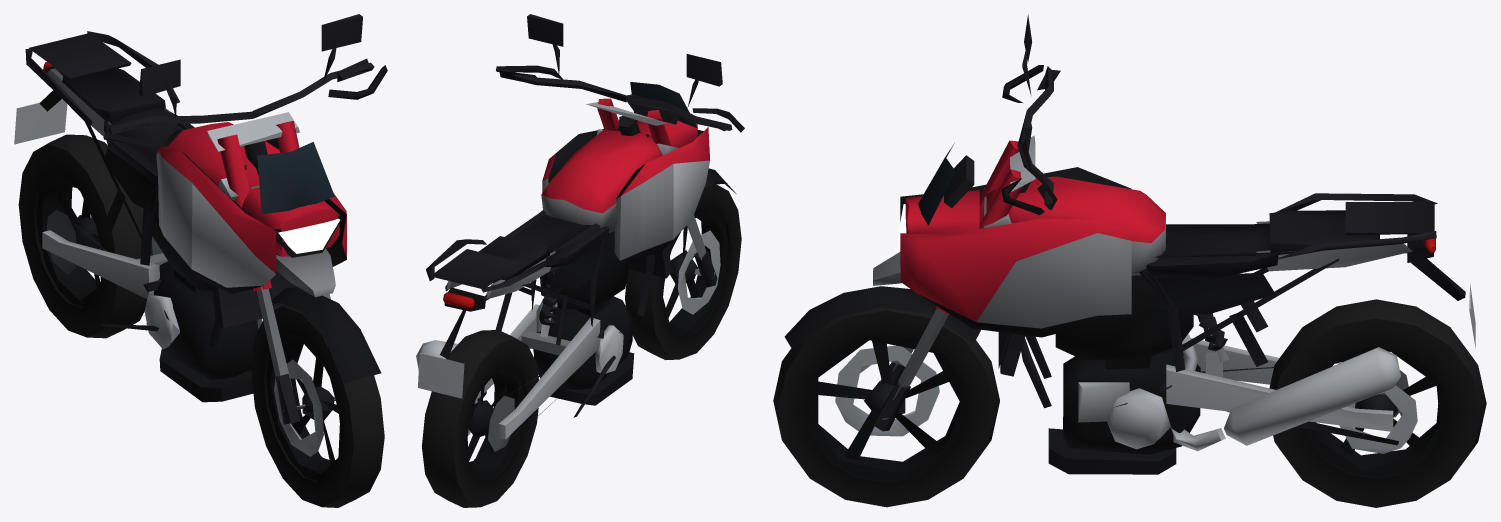
File: bike05_g310gs.glb
3 renders of one model, left to right at view 1: azimuth 30°, elevation 25°; view 2: azimuth 150°, elevation 25°; view 3: azimuth 270°, elevation 25°, orthographic. The views are drawn at different scales.
Parts seen in each view (by area): view 1: body, wheel_rear, wheel_front; view 2: body, wheel_rear, wheel_front; view 3: body, wheel_front, wheel_rear.
Part boxes in pixels (<box>): body: <box>14,14,387,424</box>; wheel_rear: <box>18,134,152,338</box>; wheel_front: <box>251,304,384,507</box>; body: <box>416,14,744,448</box>; wheel_rear: <box>421,330,538,507</box>; wheel_front: <box>625,182,741,360</box>; body: <box>784,14,1475,474</box>; wheel_front: <box>773,307,999,507</box>; wheel_rear: <box>1269,299,1486,507</box>.
Bounding box in the file's own units: 1.01 × 1.39 × 2.07.
